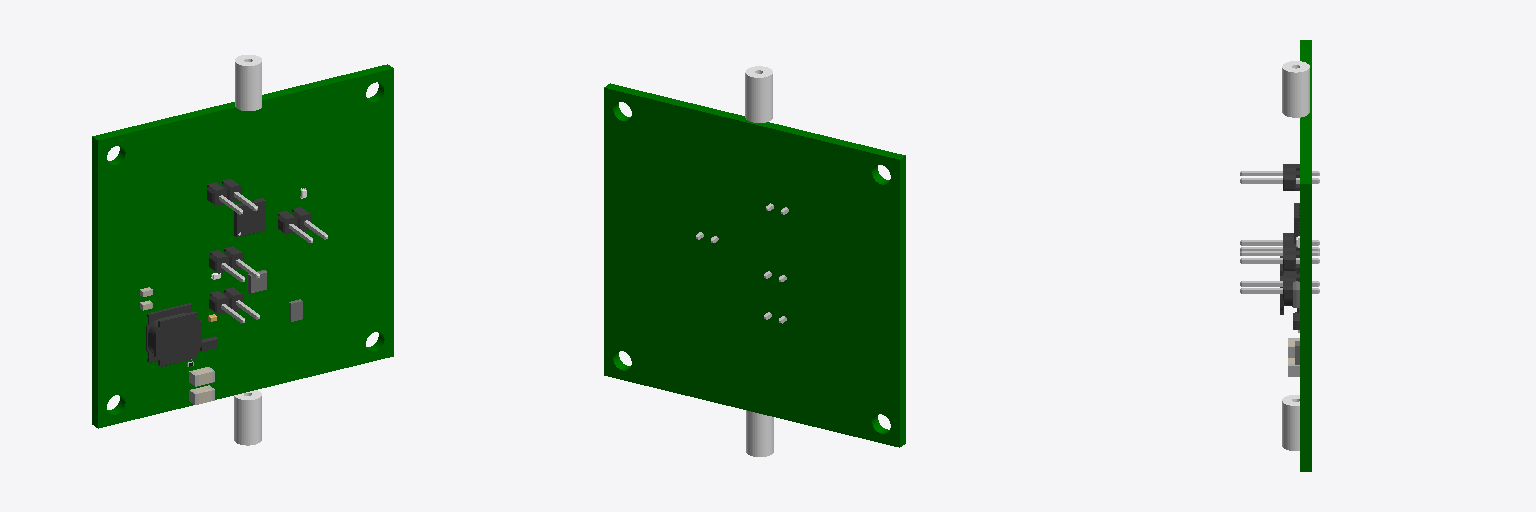
Rendered from Testing.obj.
3 views of the same model, side by side, from view 1: azimuth 30°, elevation 25°; view 2: azimuth 150°, elevation 25°; view 3: azimuth 270°, elevation 25° (orthographic).
Visible parts, largest first — view 1: Open CASCADE STEP translator 7.5 1, Open CASCADE STEP translator 7.5 30, Open CASCADE STEP translator 7.5 55, Open CASCADE STEP translator 7.5 36, Open CASCADE STEP translator 7.5 11, Open CASCADE STEP translator 7.5 38, Open CASCADE STEP translator 7.5 42, Open CASCADE STEP translator 7.5 50, Open CASCADE STEP translator 7.5 46; view 2: Open CASCADE STEP translator 7.5 1, Open CASCADE STEP translator 7.5 55, Open CASCADE STEP translator 7.5 36; view 3: Open CASCADE STEP translator 7.5 1, Open CASCADE STEP translator 7.5 55, Open CASCADE STEP translator 7.5 36.
Boxes of the visible parts, <box> form: Open CASCADE STEP translator 7.5 1: <box>92,64,393,428</box>; Open CASCADE STEP translator 7.5 30: <box>146,303,201,366</box>; Open CASCADE STEP translator 7.5 55: <box>235,55,261,110</box>; Open CASCADE STEP translator 7.5 36: <box>234,390,261,445</box>; Open CASCADE STEP translator 7.5 11: <box>234,198,265,236</box>; Open CASCADE STEP translator 7.5 38: <box>207,179,241,205</box>; Open CASCADE STEP translator 7.5 42: <box>209,246,243,273</box>; Open CASCADE STEP translator 7.5 50: <box>209,287,243,314</box>; Open CASCADE STEP translator 7.5 46: <box>278,207,311,234</box>; Open CASCADE STEP translator 7.5 1: <box>604,83,905,447</box>; Open CASCADE STEP translator 7.5 55: <box>745,66,772,122</box>; Open CASCADE STEP translator 7.5 36: <box>746,410,773,456</box>; Open CASCADE STEP translator 7.5 1: <box>1300,40,1311,471</box>; Open CASCADE STEP translator 7.5 55: <box>1282,61,1309,117</box>; Open CASCADE STEP translator 7.5 36: <box>1282,395,1299,450</box>.
Bounding box in the file's own units: 50.8 × 62.2 × 11.93.